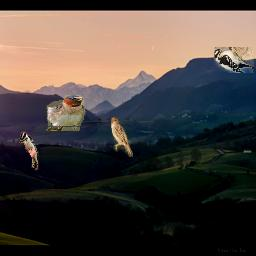Sparrow: (111, 117, 133, 157)
Swallow: (46, 95, 86, 131)
Woodpecker: (214, 47, 254, 73), (19, 131, 39, 171)
